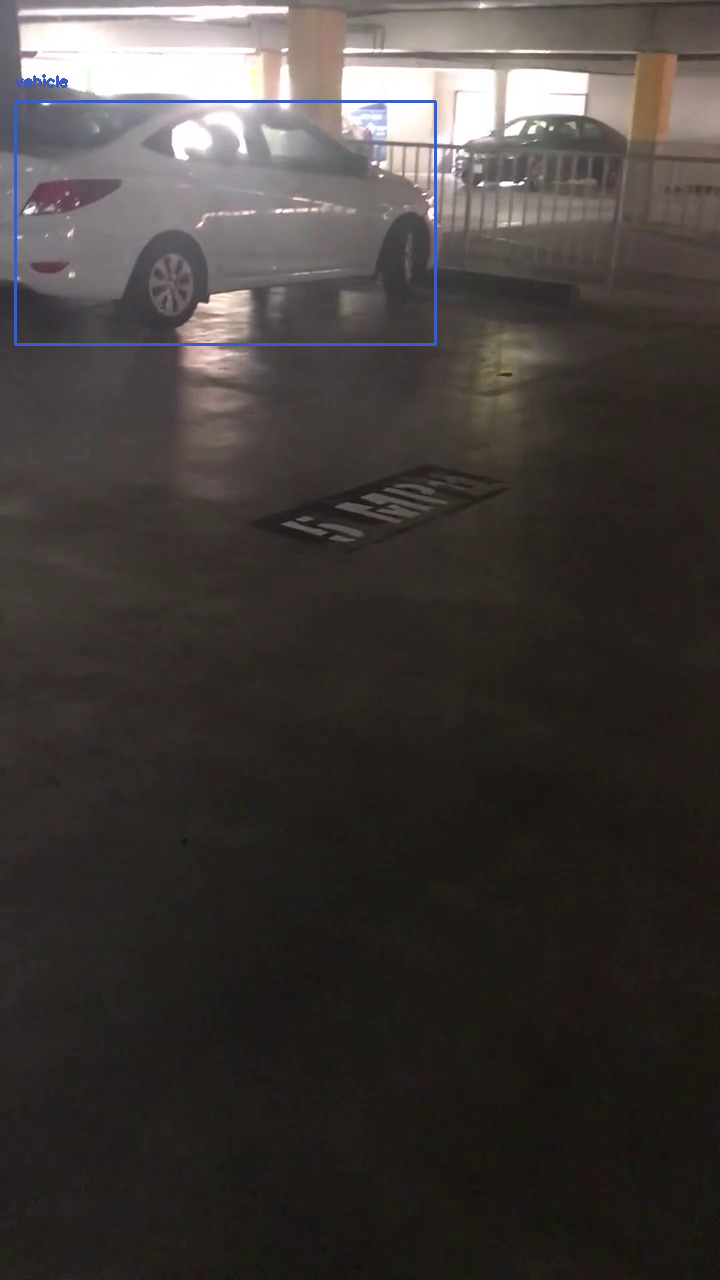vehicle: (15, 101, 435, 344)
